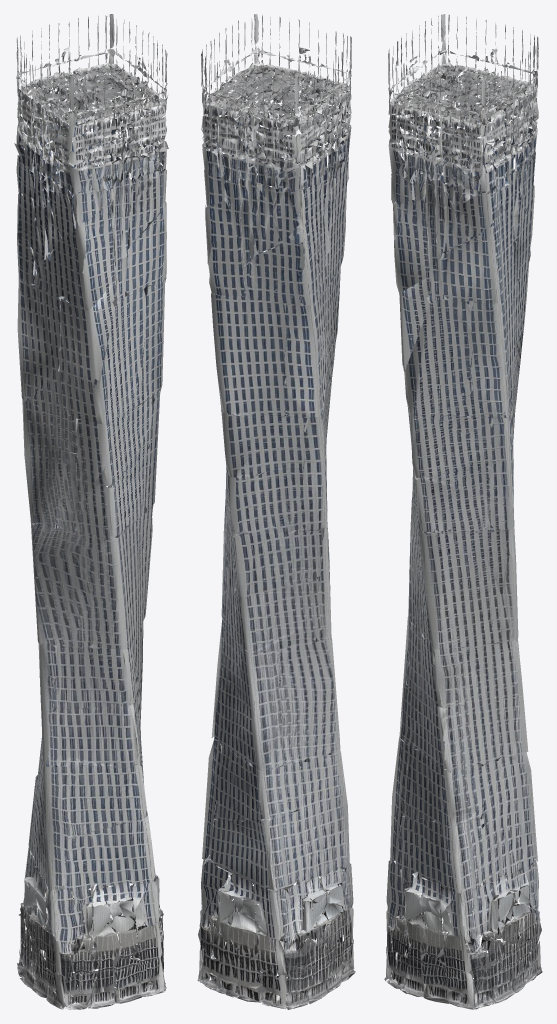
File: cayan-tower.glb
3 renders of one model, left to right at view 1: azimuth 30°, elevation 25°; view 2: azimuth 150°, elevation 25°; view 3: azimuth 330°, elevation 25°, orthographic.
Parts seen in each view (by area): view 1: Mesh_0; view 2: Mesh_0; view 3: Mesh_0.
Part boxes in pixels (x1=…): Mesh_0: x1=14, y1=14, x2=168, y2=1009; Mesh_0: x1=197, y1=14, x2=355, y2=1009; Mesh_0: x1=384, y1=14, x2=542, y2=1009.
Bounding box in the file's own units: 40 × 306 × 40.
Materials: 1 (1 with a texture image).
